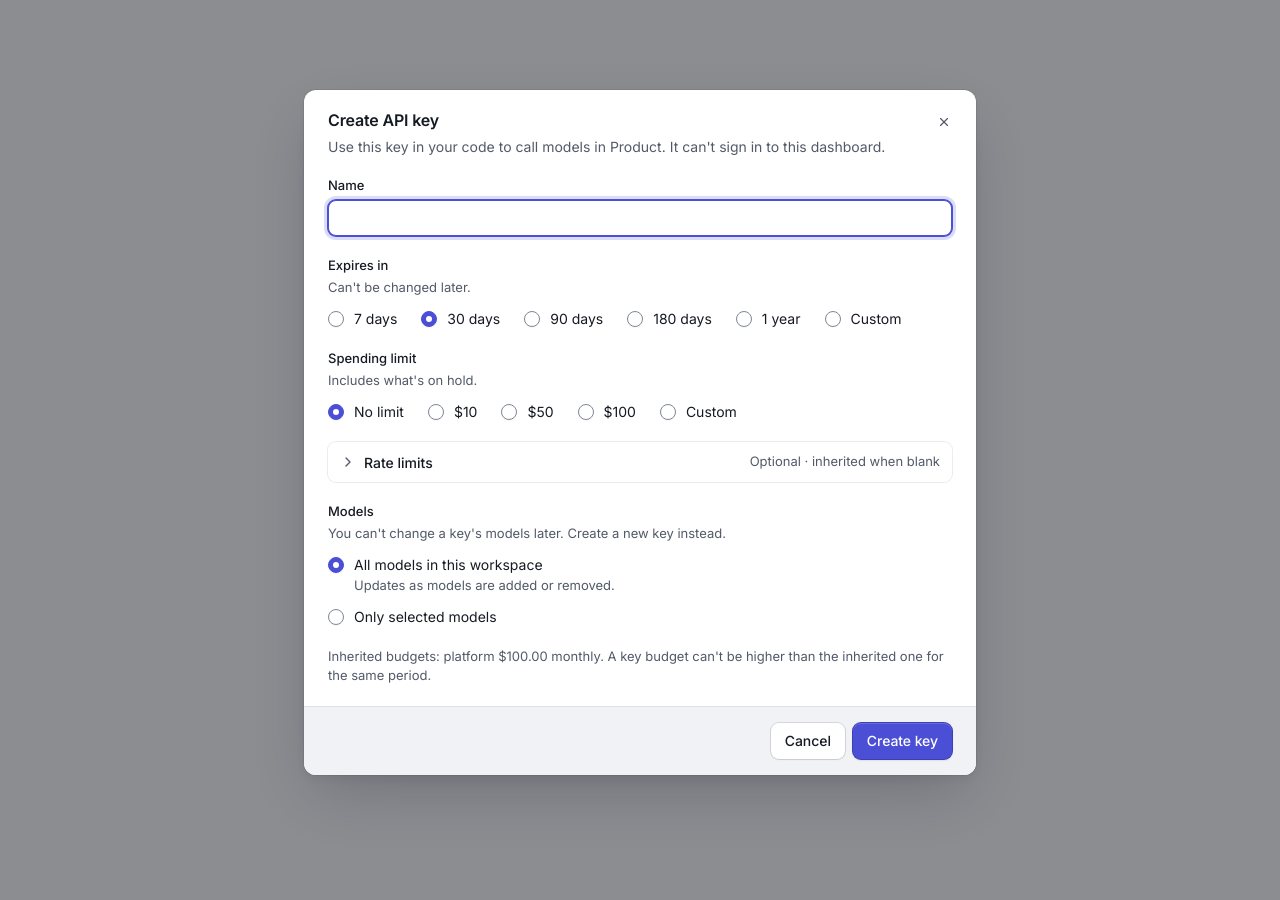
Test: Create key sends its limits in the create request › posts rate limits and stacked budgets with the key, never a follow-up policy PUT, and shows the returned policy
Type "CI" into the field labelled "Name".
click(640, 218); type("CI")  # box [328,200,952,236]
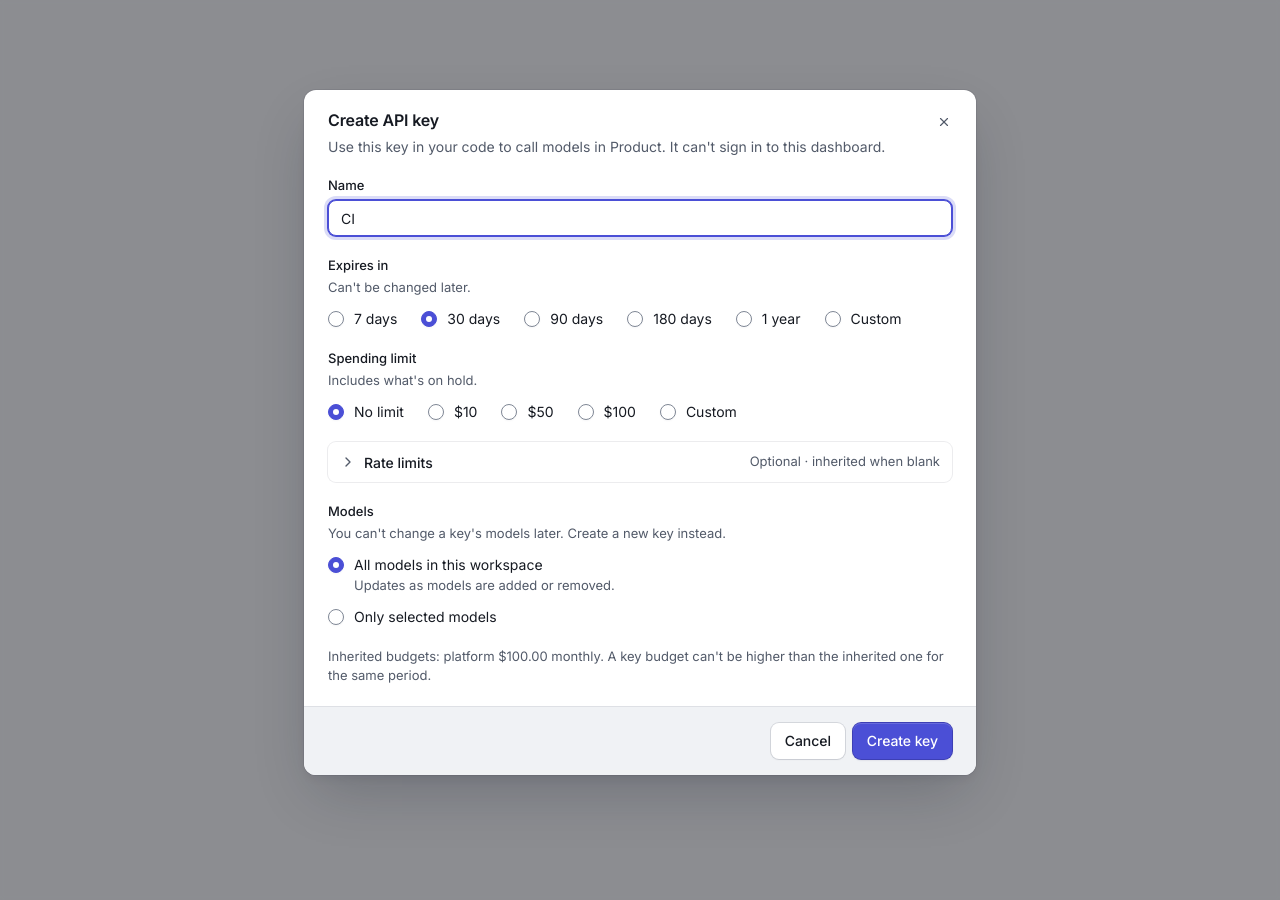
Click the 8th radio button named "$10".
click(436, 412)  # box [428,404,444,420]
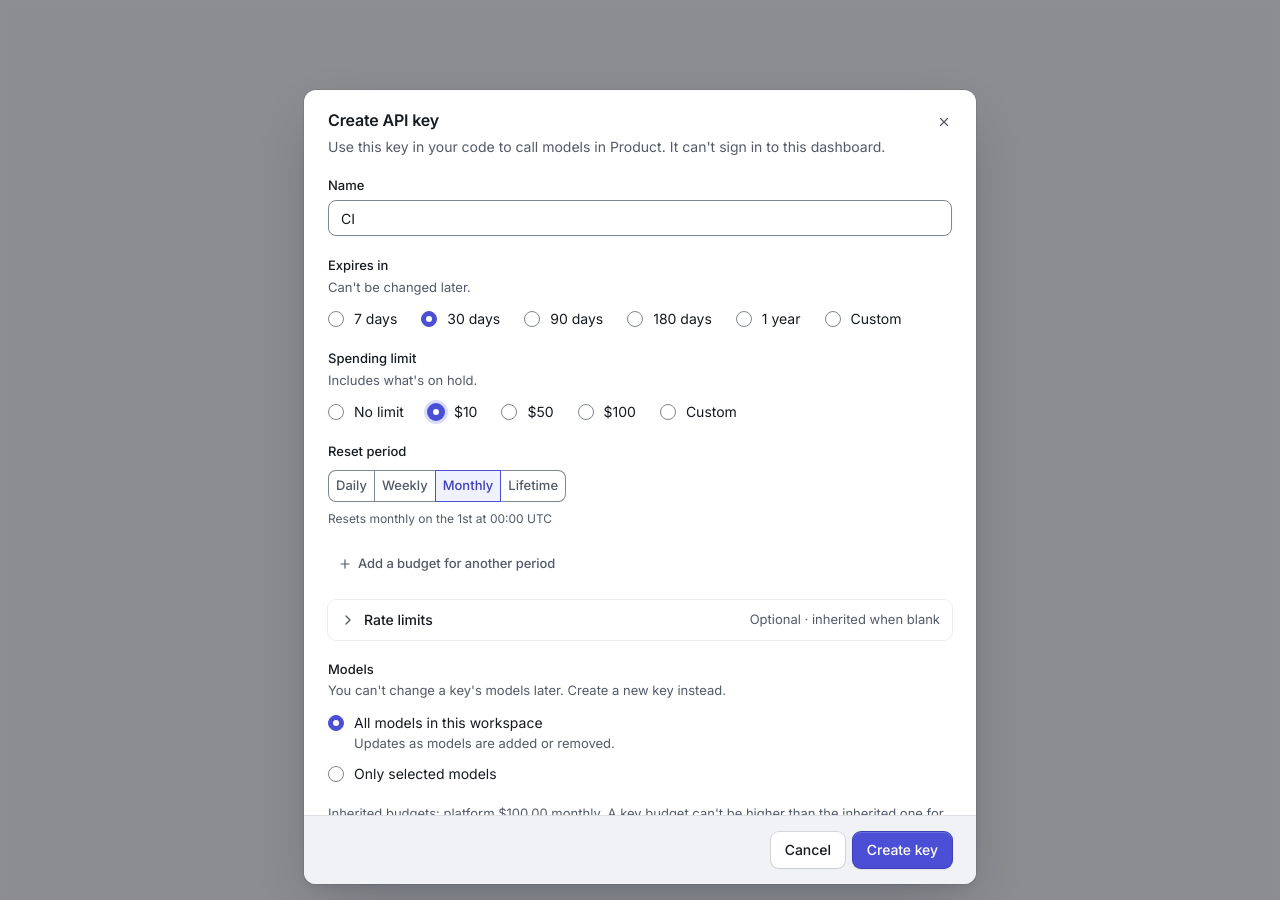
Click the button "Rate limits Optional · inherited when blank".
click(398, 620)  # box [328,600,952,640]
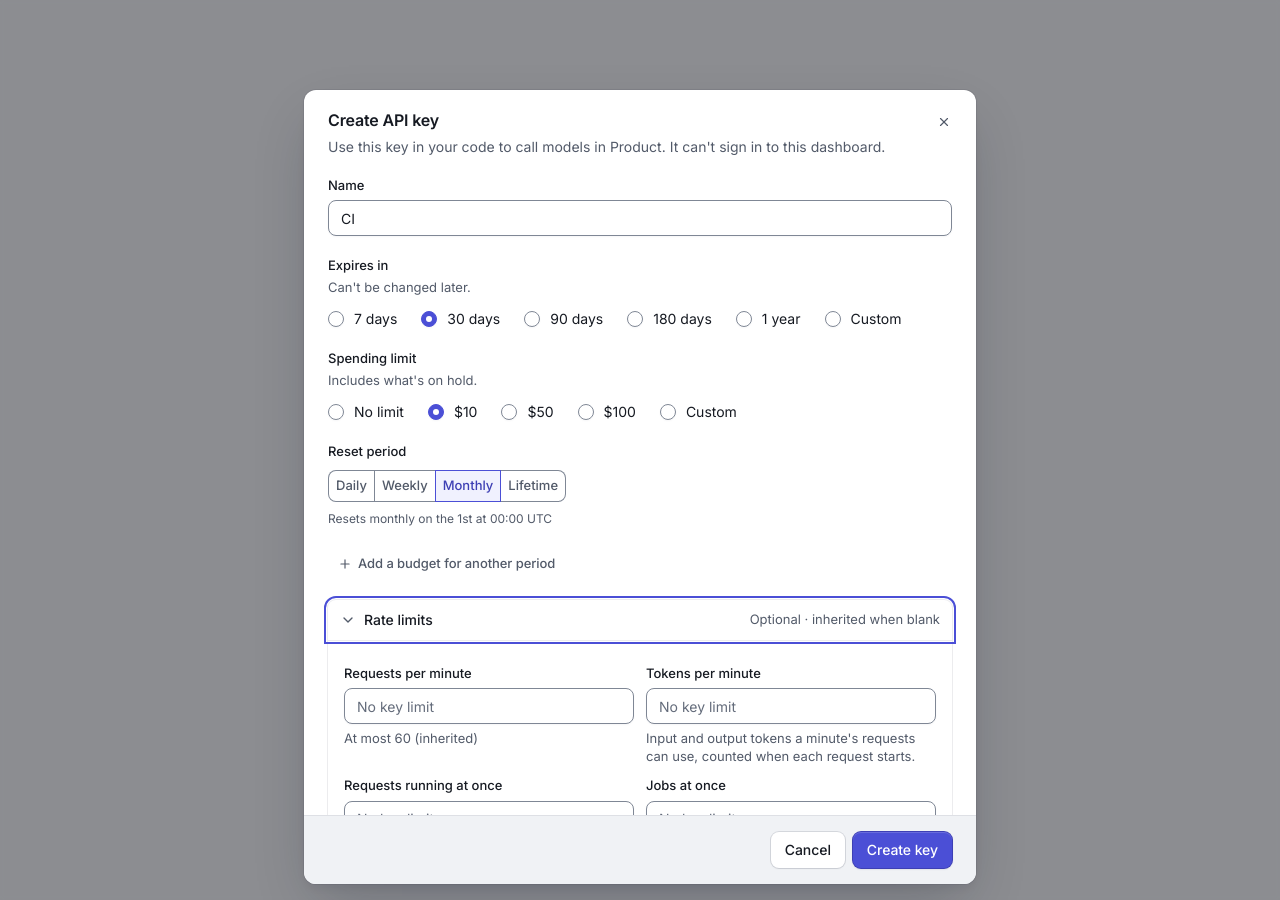
Type "30" into the field labelled "Requests per minute".
click(489, 706); type("30")  # box [344,688,634,724]
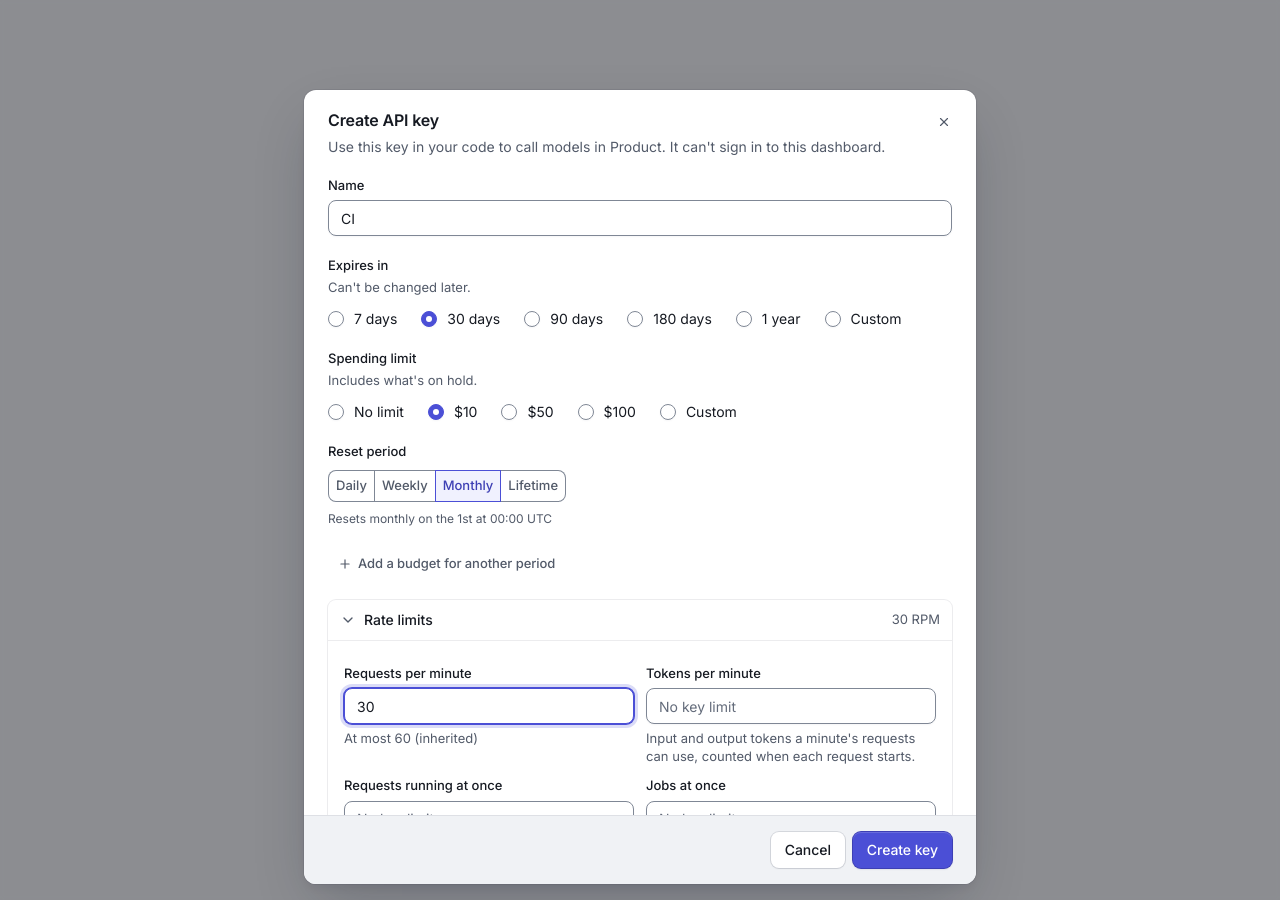
Click the button "Create key".
click(902, 850)  # box [853,832,952,868]
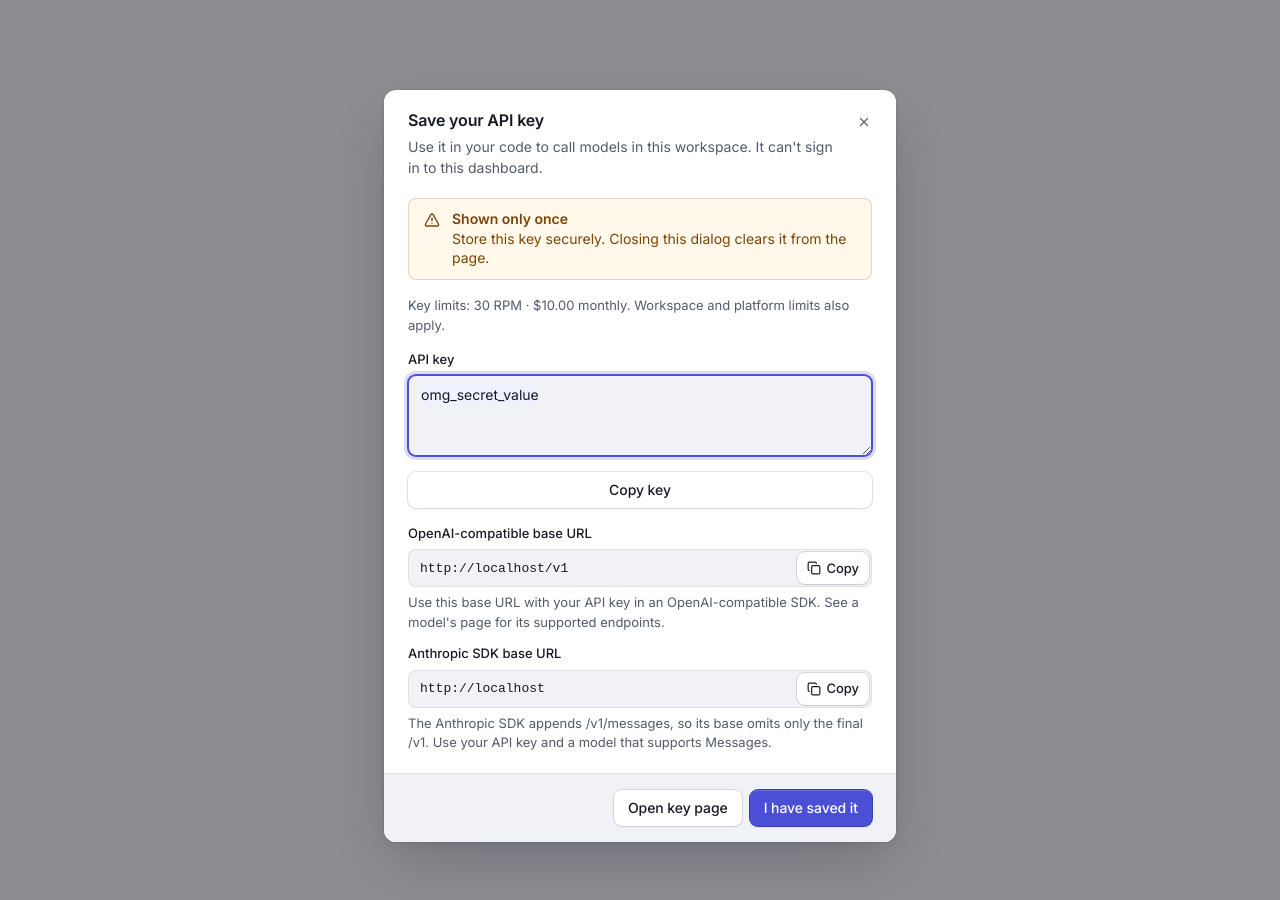
Check: the heading "Save your API key" is shown, box [408,110,544,130]
Check: the text "Key limits: 30 RPM · $10.00 monthly" is shown, box [408,297,849,333]
